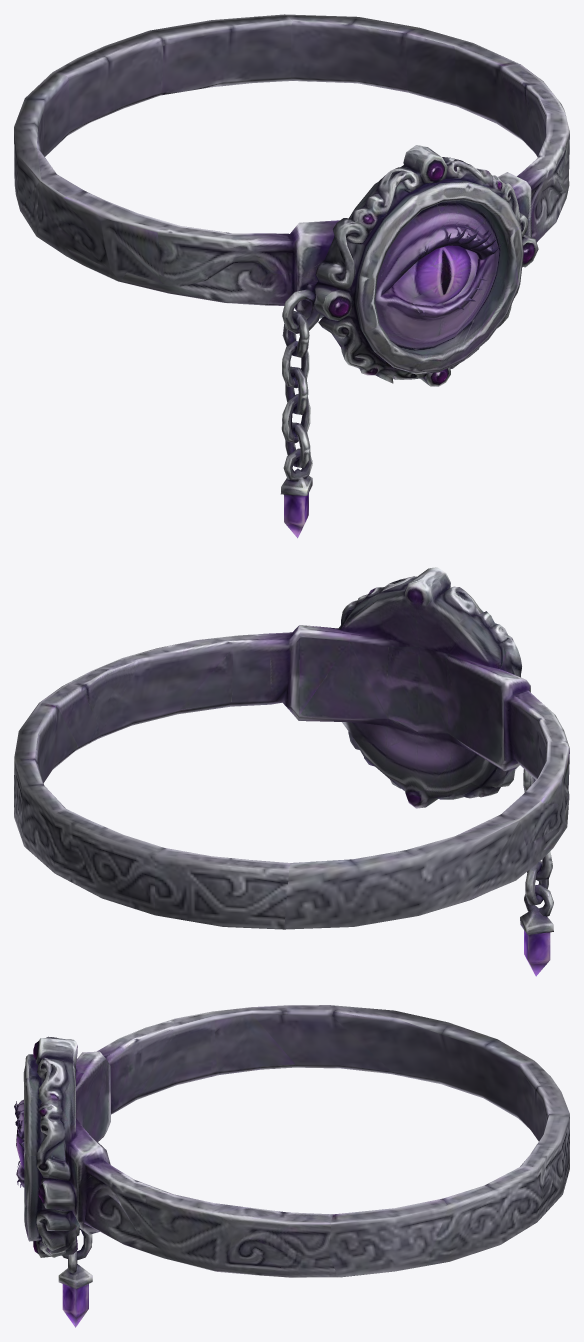
File: collectors_eye.glb
The picture shows the model from 3 angles, top to bottom: view 1: azimuth 30°, elevation 25°; view 2: azimuth 150°, elevation 25°; view 3: azimuth 270°, elevation 25°; orthographic projection. The views are drawn at different scales.
Visible parts, largest first — view 1: Mesh_0; view 2: Mesh_0; view 3: Mesh_0.
Part boxes in pixels (left/top/right/bottom): Mesh_0: left=14, top=14, right=569, bottom=538; Mesh_0: left=14, top=567, right=569, bottom=976; Mesh_0: left=14, top=1005, right=569, bottom=1327.
Size of the model in its own units: 0.9331 by 0.6808 by 1.
1 material, 1 textured.
